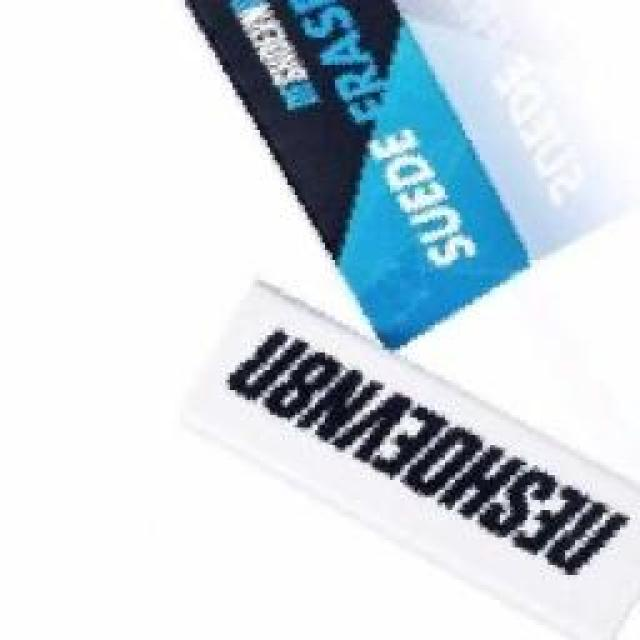Silgi: (176, 276, 640, 640)
